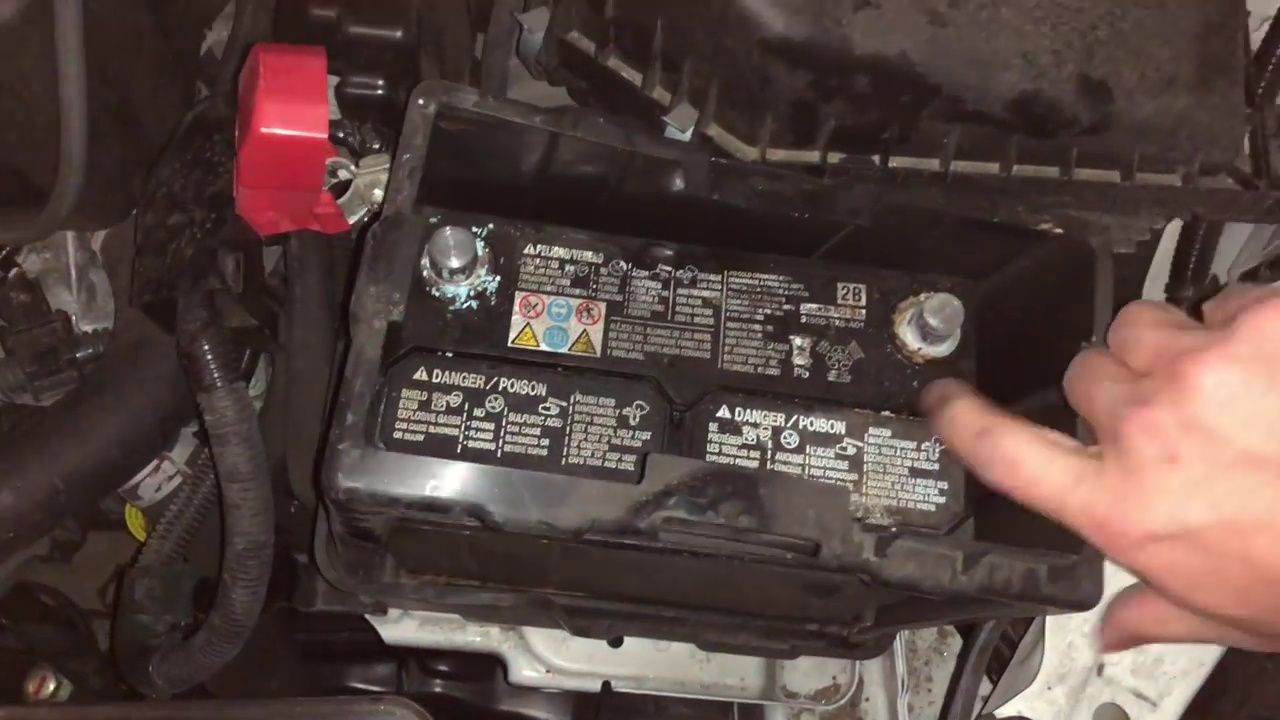battery: (355, 115, 989, 559)
neg_disconnected: (877, 257, 995, 380)
pos_disconnected: (222, 73, 516, 305)
